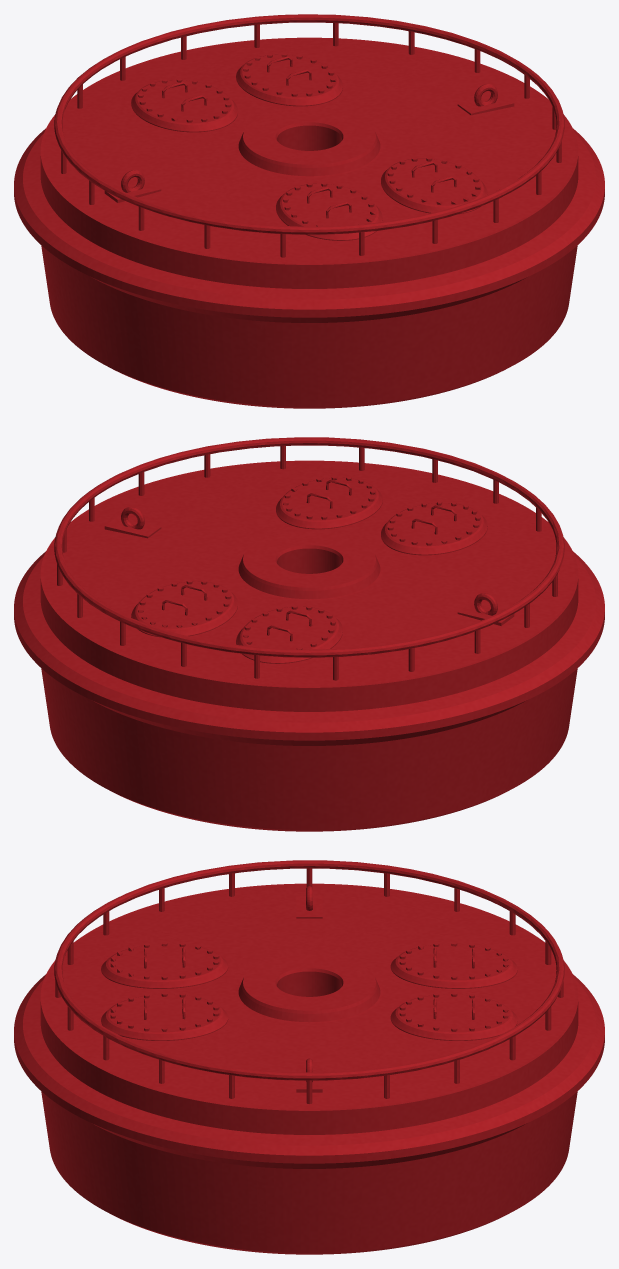
Rendered from NEW694_MooringBuoy_LOD2.glb.
The picture shows the model from 3 angles, top to bottom: view 1: azimuth 30°, elevation 25°; view 2: azimuth 150°, elevation 25°; view 3: azimuth 270°, elevation 25°; orthographic projection.
Parts seen in each view (by area): view 1: Buoy_body_integral_closed_hatches_central_through_bore, Four_closed_oval_hatch_covers_seated_on_deck, Low_circular_rail_and_twenty_attached_supports, Four_hatch_bolt_sets_and_eight_grab_handles, Two_lifting_eye_assemblies_with_attached_baseplates; view 2: Buoy_body_integral_closed_hatches_central_through_bore, Four_closed_oval_hatch_covers_seated_on_deck, Low_circular_rail_and_twenty_attached_supports, Four_hatch_bolt_sets_and_eight_grab_handles, Two_lifting_eye_assemblies_with_attached_baseplates; view 3: Buoy_body_integral_closed_hatches_central_through_bore, Four_closed_oval_hatch_covers_seated_on_deck, Low_circular_rail_and_twenty_attached_supports, Four_hatch_bolt_sets_and_eight_grab_handles, Two_lifting_eye_assemblies_with_attached_baseplates.
Boxes of the visible parts, left/top/right/bottom form: Buoy_body_integral_closed_hatches_central_through_bore: left=14, top=37, right=604, bottom=408; Four_closed_oval_hatch_covers_seated_on_deck: left=131, top=54, right=487, bottom=240; Low_circular_rail_and_twenty_attached_supports: left=54, top=14, right=564, bottom=257; Four_hatch_bolt_sets_and_eight_grab_handles: left=138, top=53, right=480, bottom=226; Two_lifting_eye_assemblies_with_attached_baseplates: left=104, top=84, right=514, bottom=202; Buoy_body_integral_closed_hatches_central_through_bore: left=14, top=460, right=604, bottom=831; Four_closed_oval_hatch_covers_seated_on_deck: left=131, top=477, right=487, bottom=663; Low_circular_rail_and_twenty_attached_supports: left=54, top=437, right=564, bottom=680; Four_hatch_bolt_sets_and_eight_grab_handles: left=138, top=476, right=480, bottom=649; Two_lifting_eye_assemblies_with_attached_baseplates: left=104, top=507, right=514, bottom=625; Buoy_body_integral_closed_hatches_central_through_bore: left=14, top=883, right=604, bottom=1254; Four_closed_oval_hatch_covers_seated_on_deck: left=101, top=944, right=517, bottom=1040; Low_circular_rail_and_twenty_attached_supports: left=54, top=860, right=564, bottom=1103; Four_hatch_bolt_sets_and_eight_grab_handles: left=110, top=942, right=508, bottom=1031; Two_lifting_eye_assemblies_with_attached_baseplates: left=296, top=886, right=322, bottom=1092.
Bounding box in the file's own units: 2 × 0.6733 × 2.
1 material, 1 textured.
